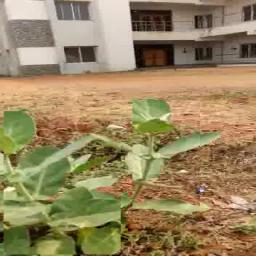Calotropis: (4, 111, 122, 255), (133, 100, 201, 209)
